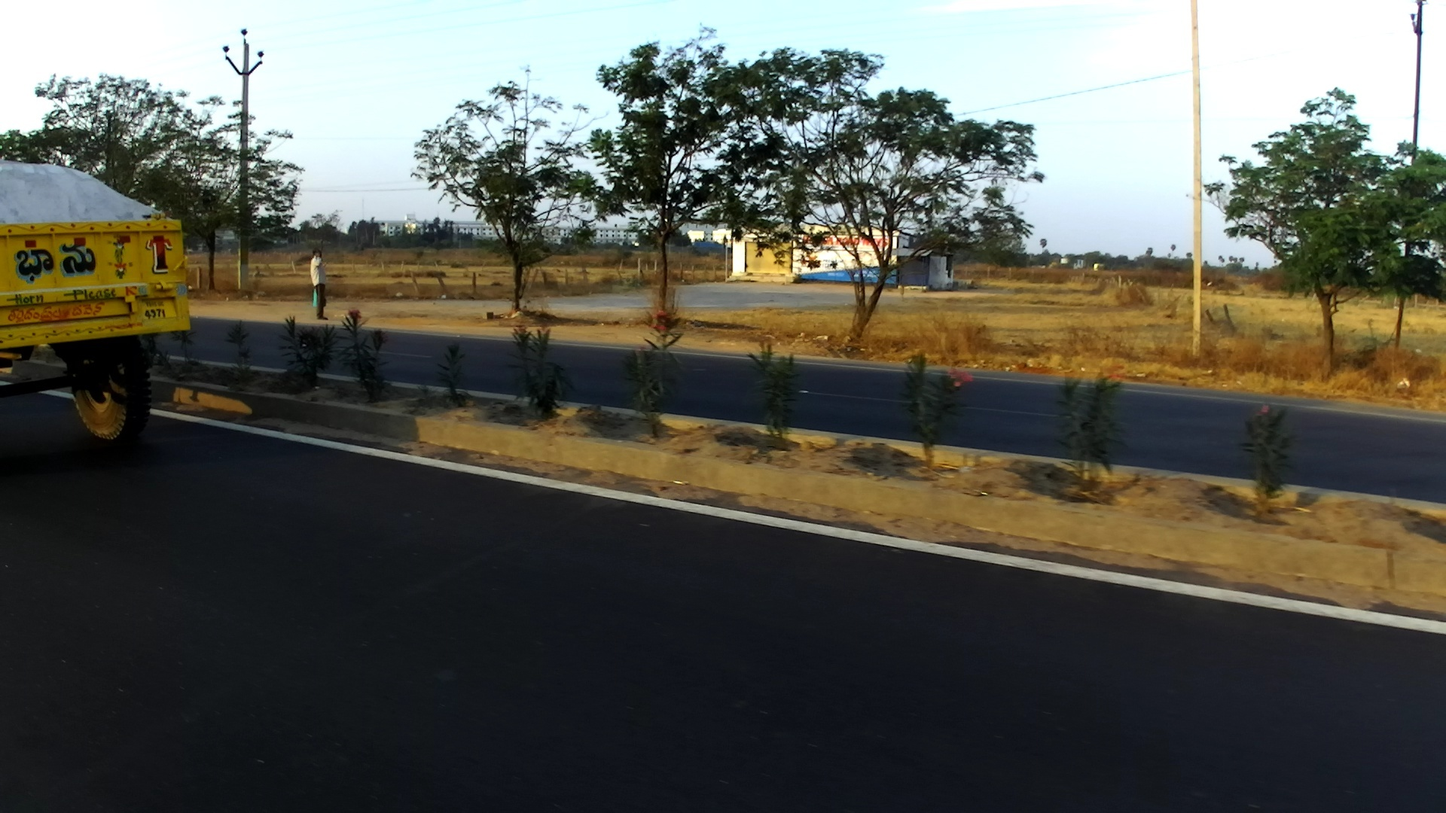person: (301, 247, 334, 321)
vehicle fallback: (1, 158, 193, 443)
